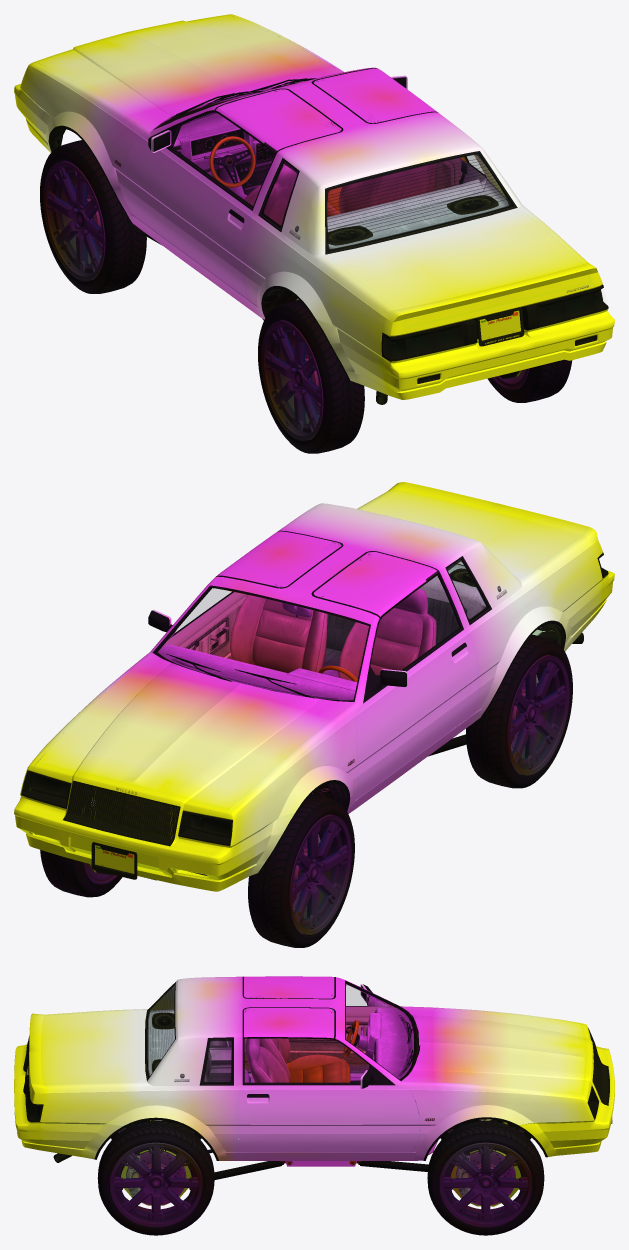
The model's file is faction3.glb.
The picture shows the model from 3 angles, top to bottom: view 1: azimuth 30°, elevation 25°; view 2: azimuth 150°, elevation 25°; view 3: azimuth 270°, elevation 25°; orthographic projection. The views are drawn at different scales.
Parts seen in each view (by area): view 1: bodyshell, bonnet, boot, door_dside_f, wheel_lr, wheel_lf, windscreen_r, bumper_r, misc_m, extra_2, wing_lf, window_lf (+8 smaller); view 2: bodyshell, bonnet, misc_m, door_dside_f, wheel_lf, wheel_lr, bumper_f, boot, extra_2, wing_lf, window_lf, chassis (+8 smaller); view 3: bodyshell, door_pside_f, bonnet, wheel_rr, wheel_rf, boot, misc_m, wing_rf, window_rf, extra_2, bumper_r, bumper_f (+7 smaller).
Part boxes in pixels (x1=…): bodyshell: x1=35, y1=14, x2=608, y2=363; bonnet: x1=38, y1=15, x2=341, y2=130; boot: x1=332, y1=212, x2=590, y2=327; door_dside_f: x1=123, y1=125, x2=253, y2=299; wheel_lr: x1=258, y1=300, x2=364, y2=453; wheel_lf: x1=40, y1=140, x2=146, y2=293; windscreen_r: x1=326, y1=153, x2=513, y2=250; bumper_r: x1=314, y1=310, x2=614, y2=399; misc_m: x1=171, y1=112, x2=486, y2=230; extra_2: x1=215, y1=68, x2=436, y2=153; wing_lf: x1=20, y1=62, x2=151, y2=230; window_lf: x1=173, y1=113, x2=274, y2=206; bodyshell: x1=20, y1=482, x2=608, y2=846; bonnet: x1=38, y1=653, x2=354, y2=809; misc_m: x1=157, y1=576, x2=485, y2=700; door_dside_f: x1=356, y1=627, x2=478, y2=797; wheel_lf: x1=248, y1=794, x2=354, y2=947; wheel_lr: x1=466, y1=634, x2=572, y2=788; bumper_f: x1=14, y1=795, x2=297, y2=891; boot: x1=362, y1=482, x2=589, y2=576; extra_2: x1=217, y1=531, x2=438, y2=618; wing_lf: x1=225, y1=702, x2=362, y2=846; window_lf: x1=371, y1=576, x2=460, y2=674; chassis: x1=75, y1=558, x2=556, y2=880; bodyshell: x1=23, y1=976, x2=609, y2=1160; door_pside_f: x1=238, y1=1065, x2=420, y2=1152; bonnet: x1=401, y1=1007, x2=585, y2=1095; wheel_rr: x1=97, y1=1121, x2=214, y2=1235; wheel_rf: x1=427, y1=1121, x2=544, y2=1235; boot: x1=29, y1=1010, x2=139, y2=1093; misc_m: x1=202, y1=1006, x2=413, y2=1082; wing_rf: x1=396, y1=1081, x2=594, y2=1160; window_rf: x1=245, y1=1039, x2=368, y2=1082; extra_2: x1=244, y1=976, x2=334, y2=1039; bumper_r: x1=14, y1=1044, x2=127, y2=1159; bumper_f: x1=514, y1=1046, x2=614, y2=1157.
Bounding box in the file's own units: 1.9 × 1.78 × 5.11.
19 materials, 19 textured.
